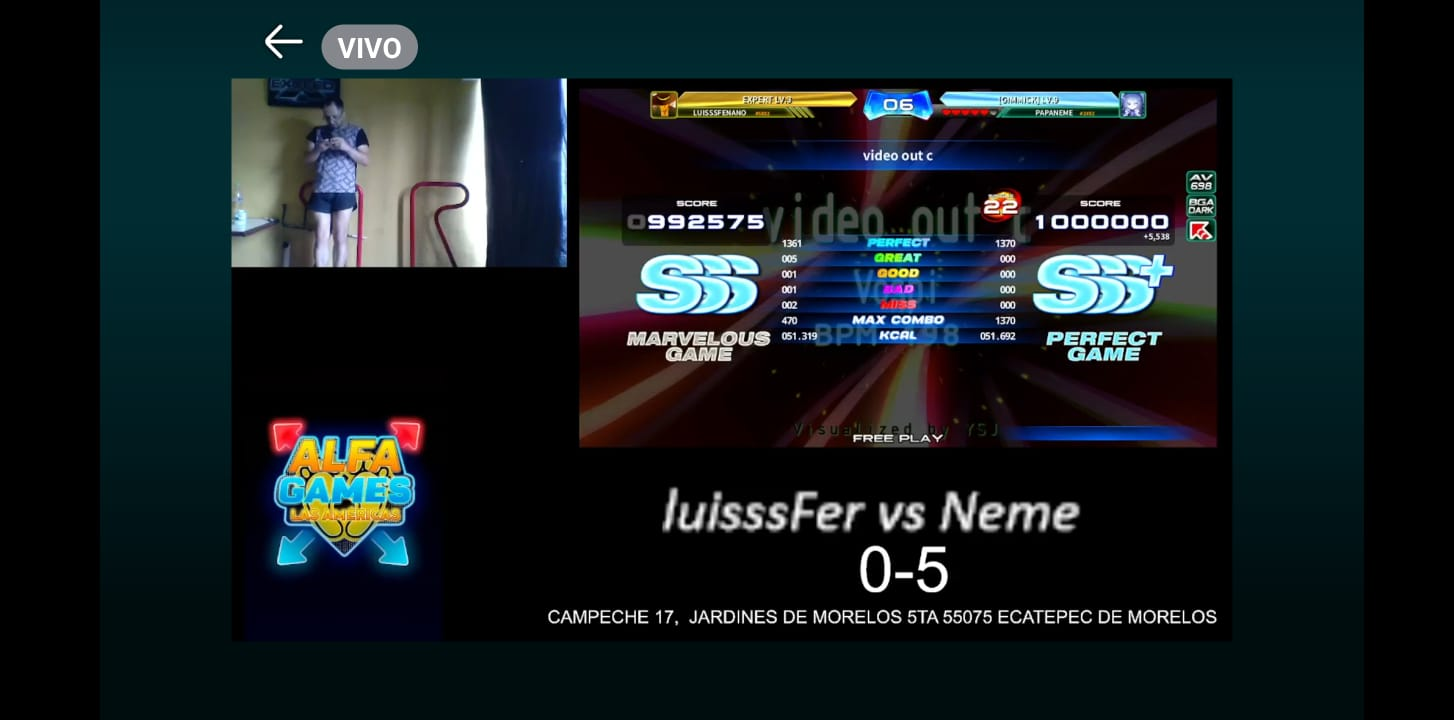difficulty: (975, 181, 1025, 221)
fullscore: (858, 80, 1235, 440)
rank: (620, 246, 766, 317), (1032, 253, 1174, 325)
score: (1028, 203, 1170, 234)
song_name: (751, 137, 1095, 172)
